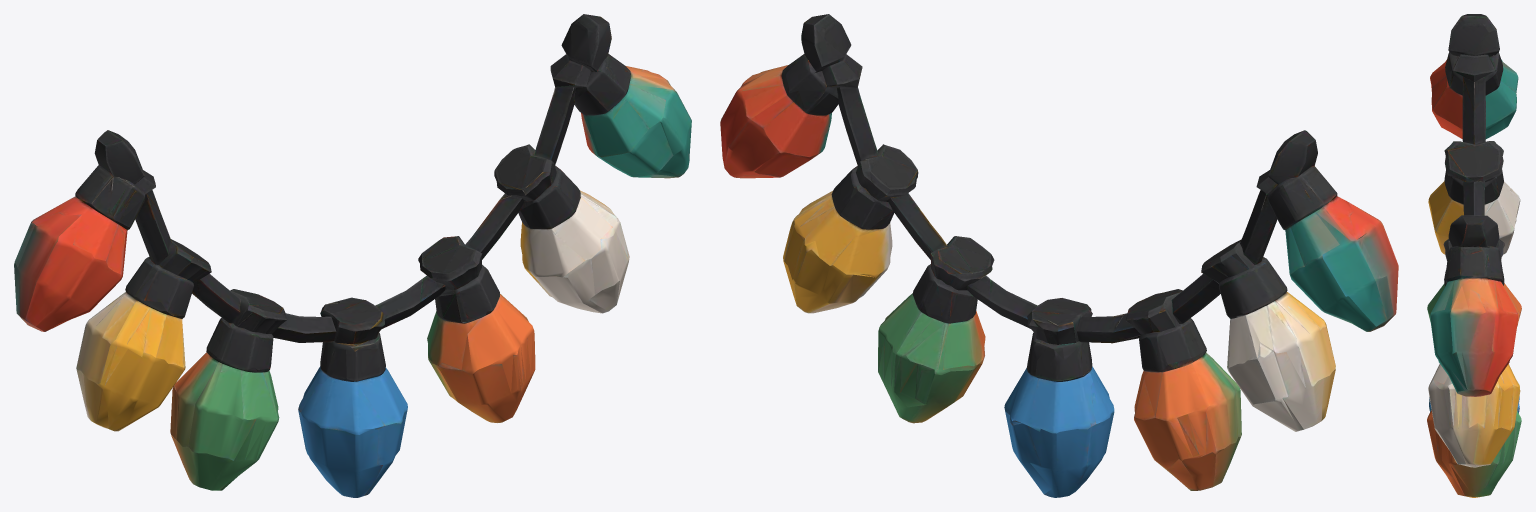
The model's file is stringLights.glb.
The picture shows the model from 3 angles, left to right: view 1: azimuth 30°, elevation 25°; view 2: azimuth 150°, elevation 25°; view 3: azimuth 270°, elevation 25°; orthographic projection. The views are drawn at different scales.
Visible parts, largest first — view 1: Mesh_0; view 2: Mesh_0; view 3: Mesh_0.
Part boxes in pixels (left/top/right/bottom): Mesh_0: left=14, top=14, right=691, bottom=497; Mesh_0: left=720, top=14, right=1398, bottom=497; Mesh_0: left=1427, top=14, right=1521, bottom=497.
Bounding box in the file's own units: 2 × 1.19 × 0.2879.
Materials: 1 (1 with a texture image).
